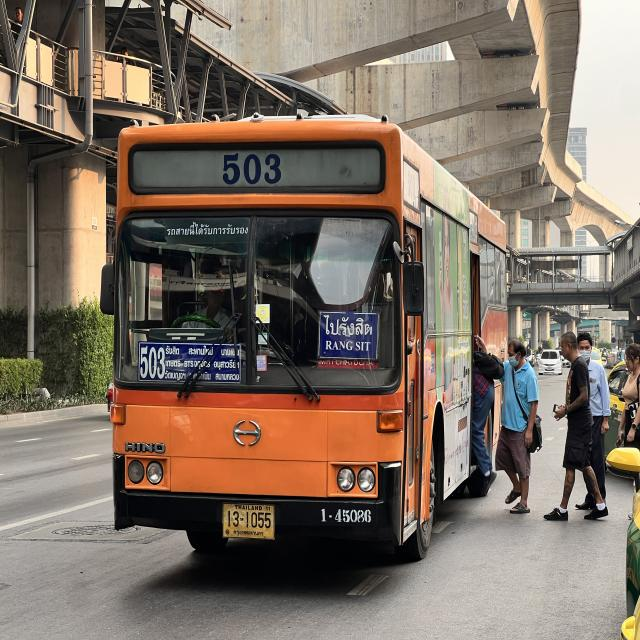BMTA-bus: (98, 102, 512, 571)
Bus-Line-Number: (212, 150, 292, 188)
Destination-Sign-Normal: (319, 310, 380, 358)
